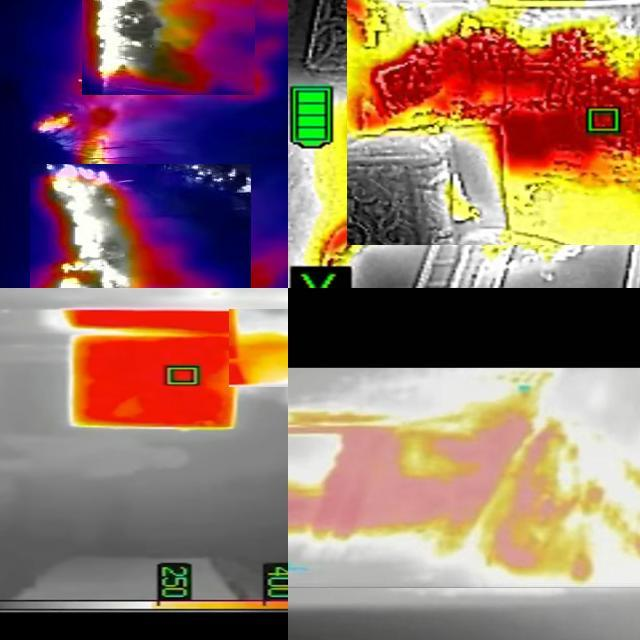fire: (289, 368, 640, 588), (348, 1, 640, 245), (31, 164, 252, 289), (83, 1, 256, 95), (27, 112, 143, 164), (230, 309, 289, 387)
